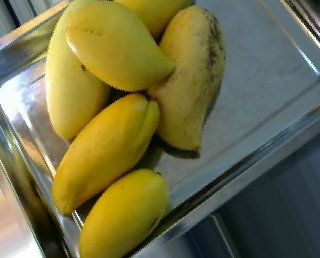Mango: (52, 93, 161, 215), (148, 5, 224, 149), (66, 2, 174, 92), (46, 0, 112, 139), (78, 168, 168, 258)
